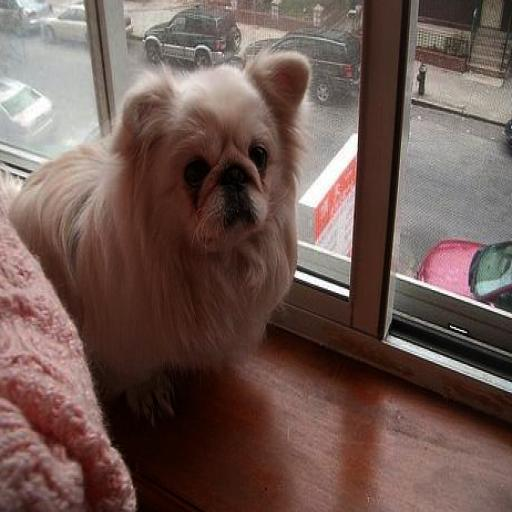dog_face: (116, 46, 310, 260)
